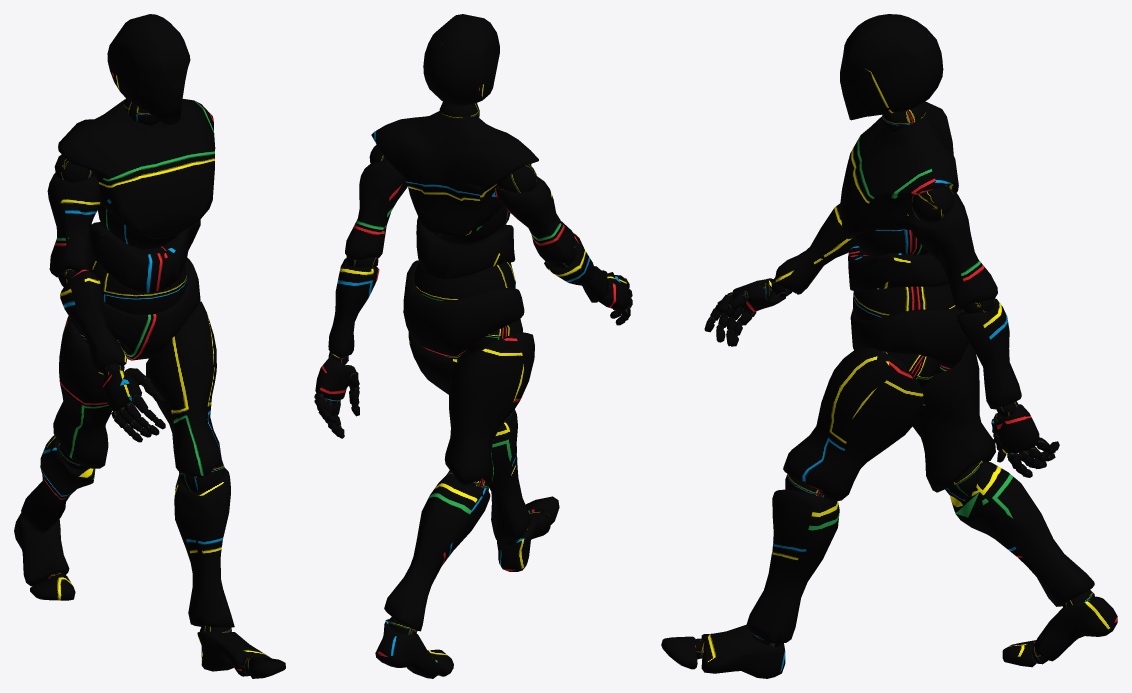
The model's file is y-bot-origin_000021.obj.
The picture shows the model from 3 angles, left to right: view 1: azimuth 30°, elevation 25°; view 2: azimuth 150°, elevation 25°; view 3: azimuth 270°, elevation 25°; orthographic projection. The views are drawn at different scales.
Visible parts, largest first — view 1: Alpha_Surface_Alpha_SurfaceMesh, Alpha_Joints_Alpha_JointsMesh; view 2: Alpha_Surface_Alpha_SurfaceMesh, Alpha_Joints_Alpha_JointsMesh; view 3: Alpha_Surface_Alpha_SurfaceMesh, Alpha_Joints_Alpha_JointsMesh.
Part boxes in pixels (x1=…): Alpha_Surface_Alpha_SurfaceMesh: x1=14, y1=14, x2=285, y2=678; Alpha_Joints_Alpha_JointsMesh: x1=27, y1=98, x2=253, y2=675; Alpha_Surface_Alpha_SurfaceMesh: x1=314, y1=14, x2=632, y2=678; Alpha_Joints_Alpha_JointsMesh: x1=314, y1=101, x2=631, y2=634; Alpha_Surface_Alpha_SurfaceMesh: x1=661, y1=14, x2=1117, y2=678; Alpha_Joints_Alpha_JointsMesh: x1=695, y1=104, x2=1095, y2=664.
Bounding box in the file's own units: 0.5734 × 1.75 × 1.1.
